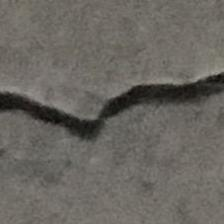Crack: (0, 60, 224, 142)
